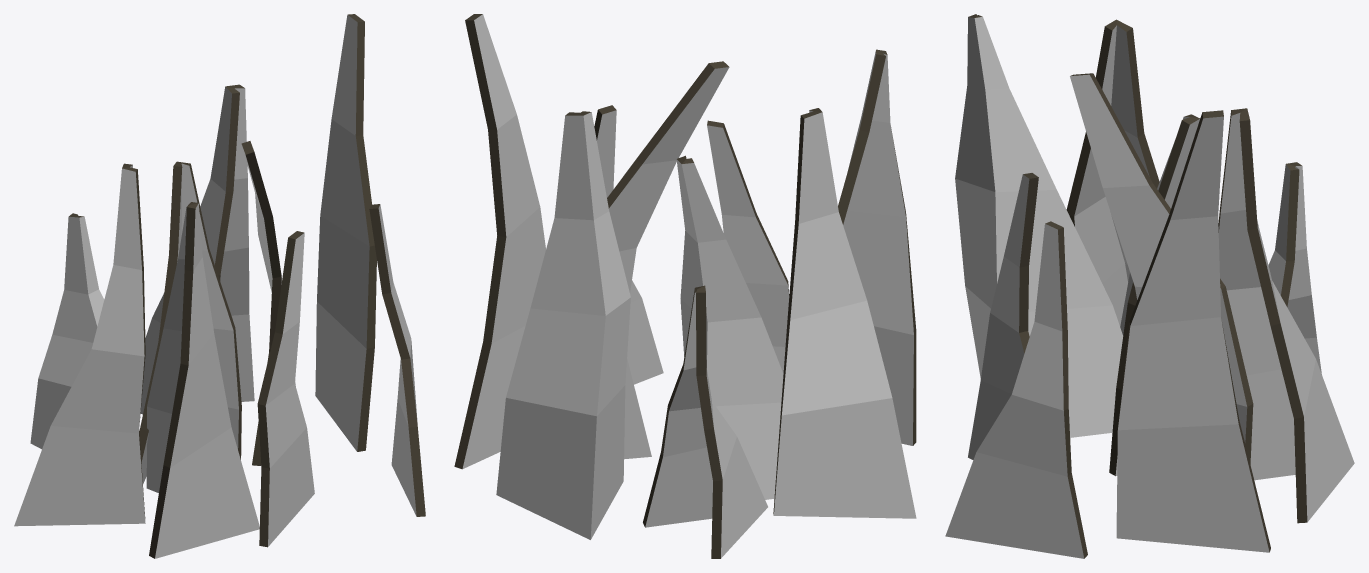
The model's file is Grass.fbx.
3 renders of one model, left to right at view 1: azimuth 30°, elevation 25°; view 2: azimuth 150°, elevation 25°; view 3: azimuth 270°, elevation 25°, orthographic. The views are drawn at different scales.
Parts seen in each view (by area): view 1: Grass2; view 2: Grass2; view 3: Grass2.
Part boxes in pixels (<box>): Grass2: <box>14,14,425,558</box>; Grass2: <box>454,14,916,558</box>; Grass2: <box>945,14,1354,558</box>.
Bounding box in the file's own units: 197 × 200 × 164.
